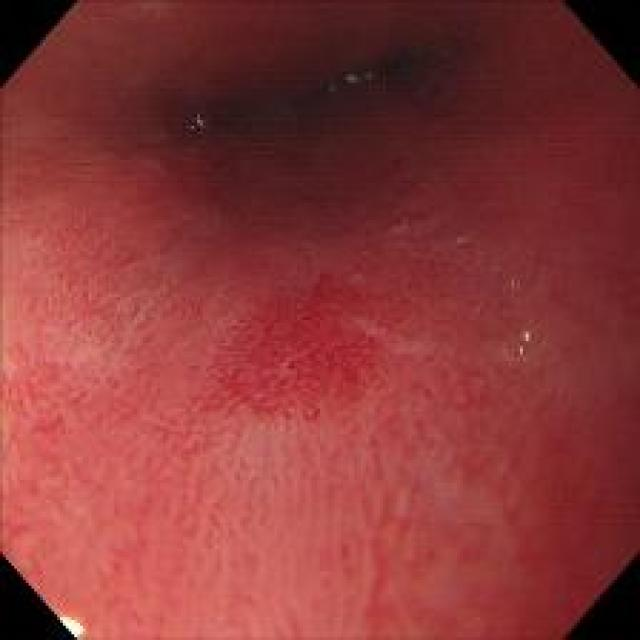color misalignment: (514, 328, 539, 360), (344, 68, 374, 86), (188, 109, 205, 130)
contrast: (165, 26, 488, 162)
specularity: (56, 612, 85, 638)
